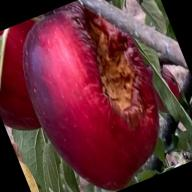Apples: (2, 0, 184, 192), (0, 18, 73, 141), (141, 57, 185, 115)
